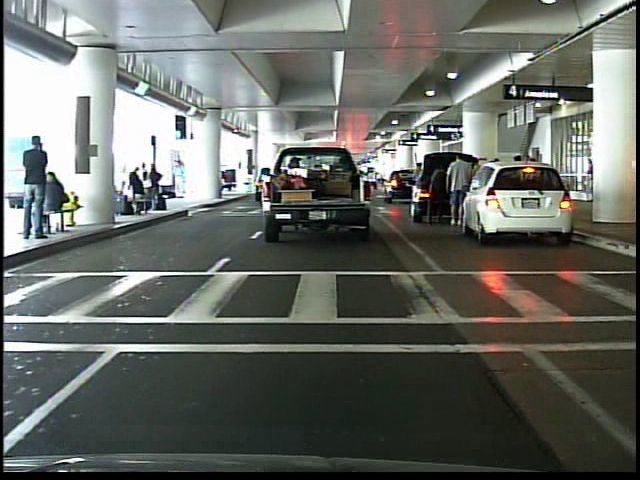person: (19, 134, 57, 245), (445, 150, 470, 227), (408, 158, 430, 214), (172, 158, 189, 201)
